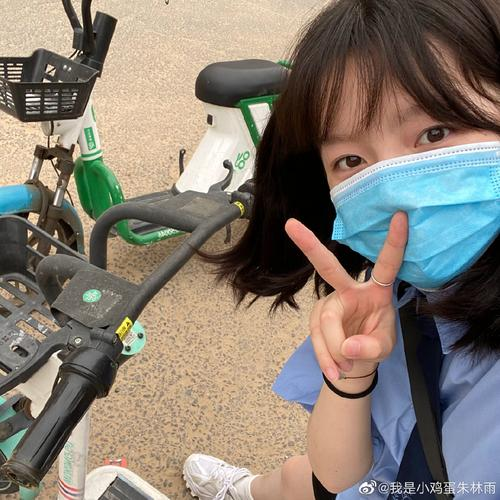mask: (308, 25, 500, 289)
